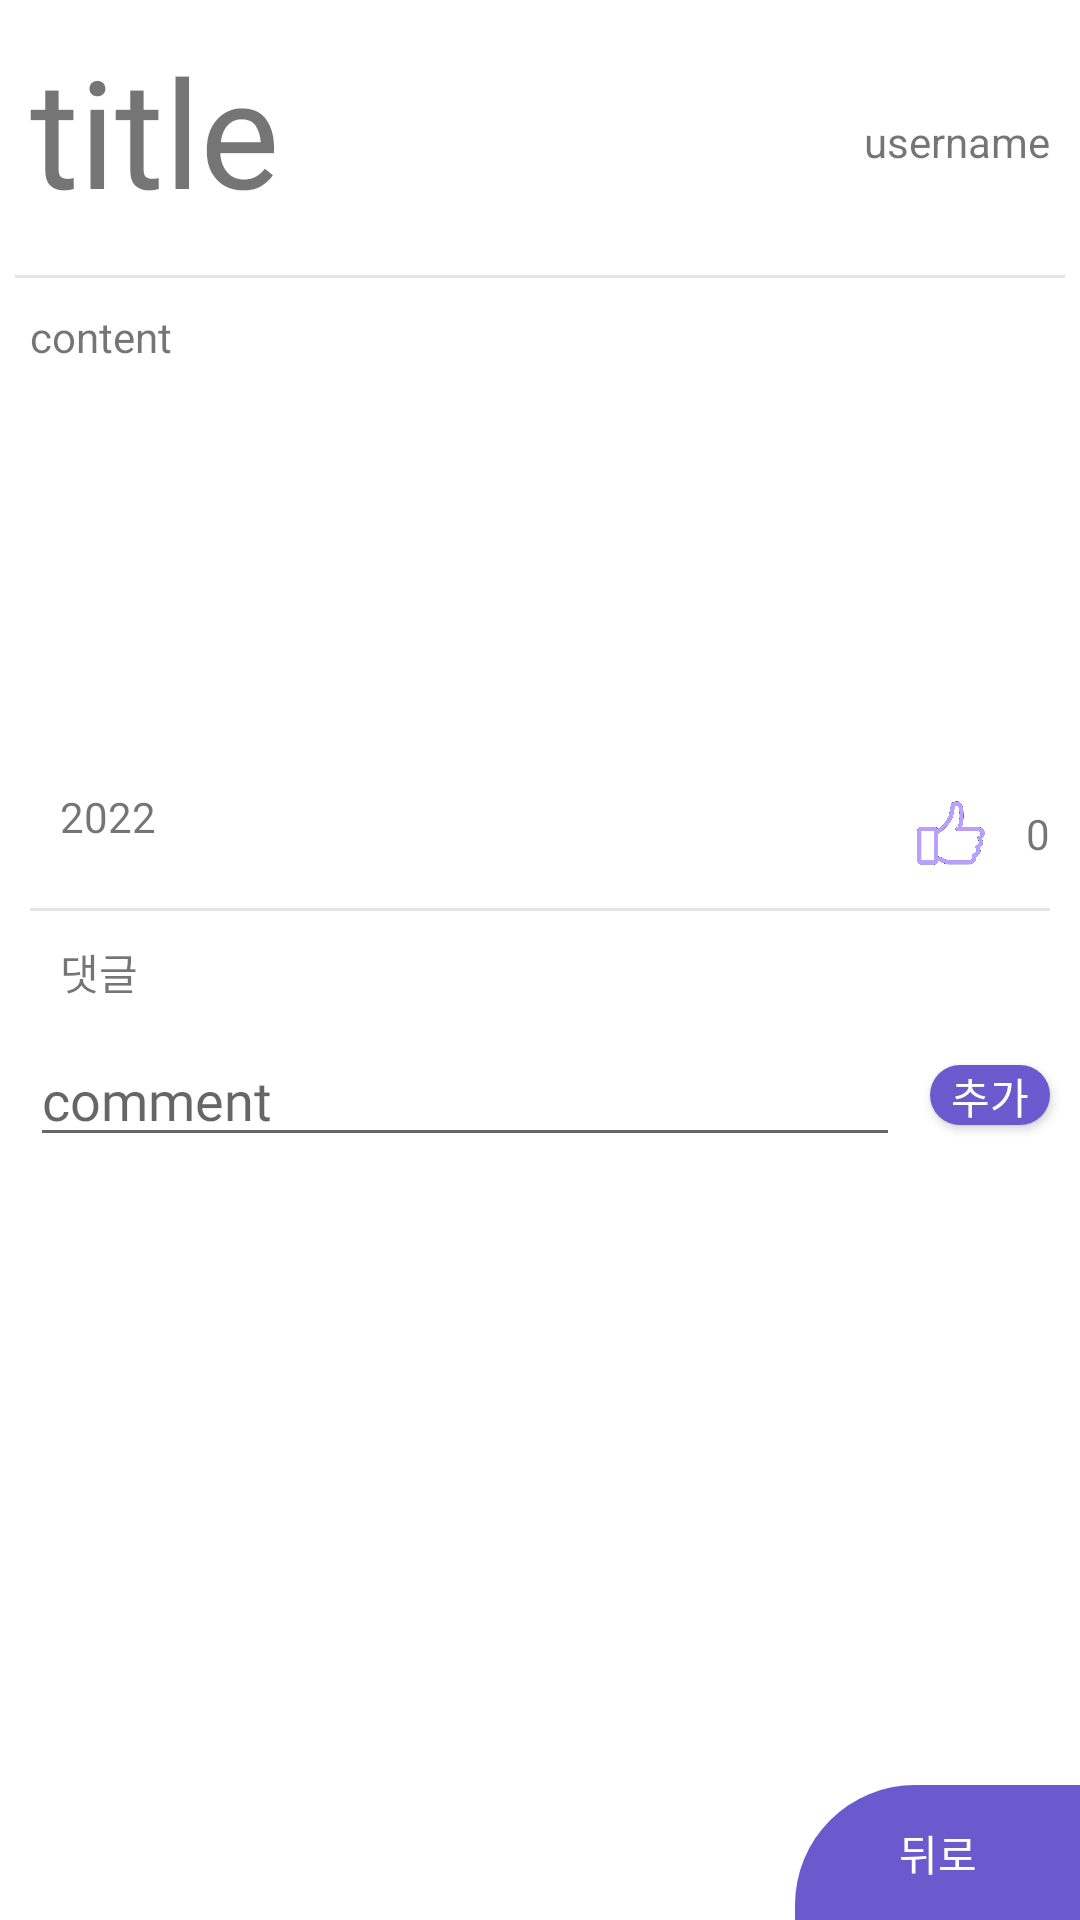

Point at icon controls on the screen. Image size 1080px x 1920px, points as point (x, y).
like unselect: point (951, 833)
